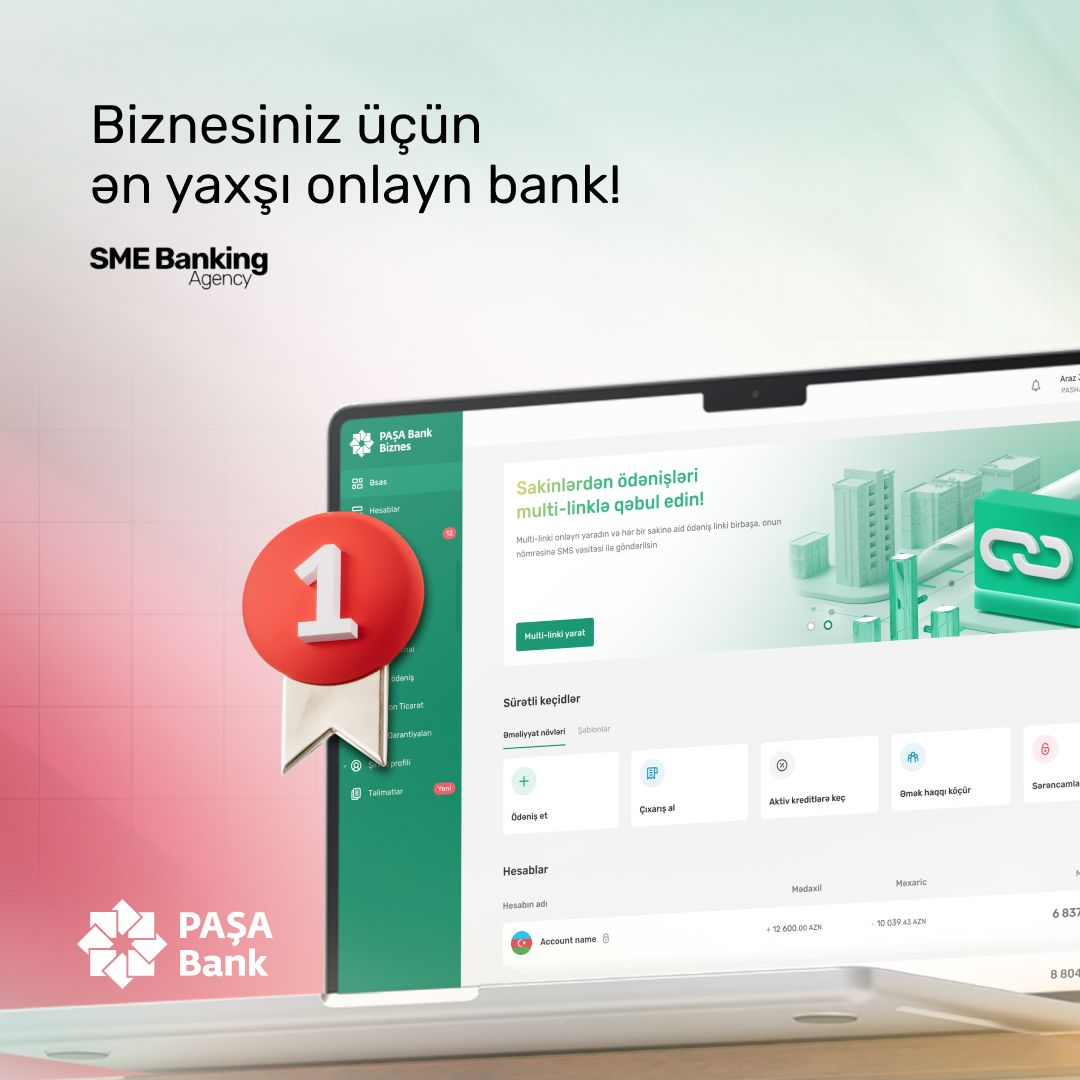Pasha Bank: (73, 894, 171, 991), (347, 428, 378, 460)
